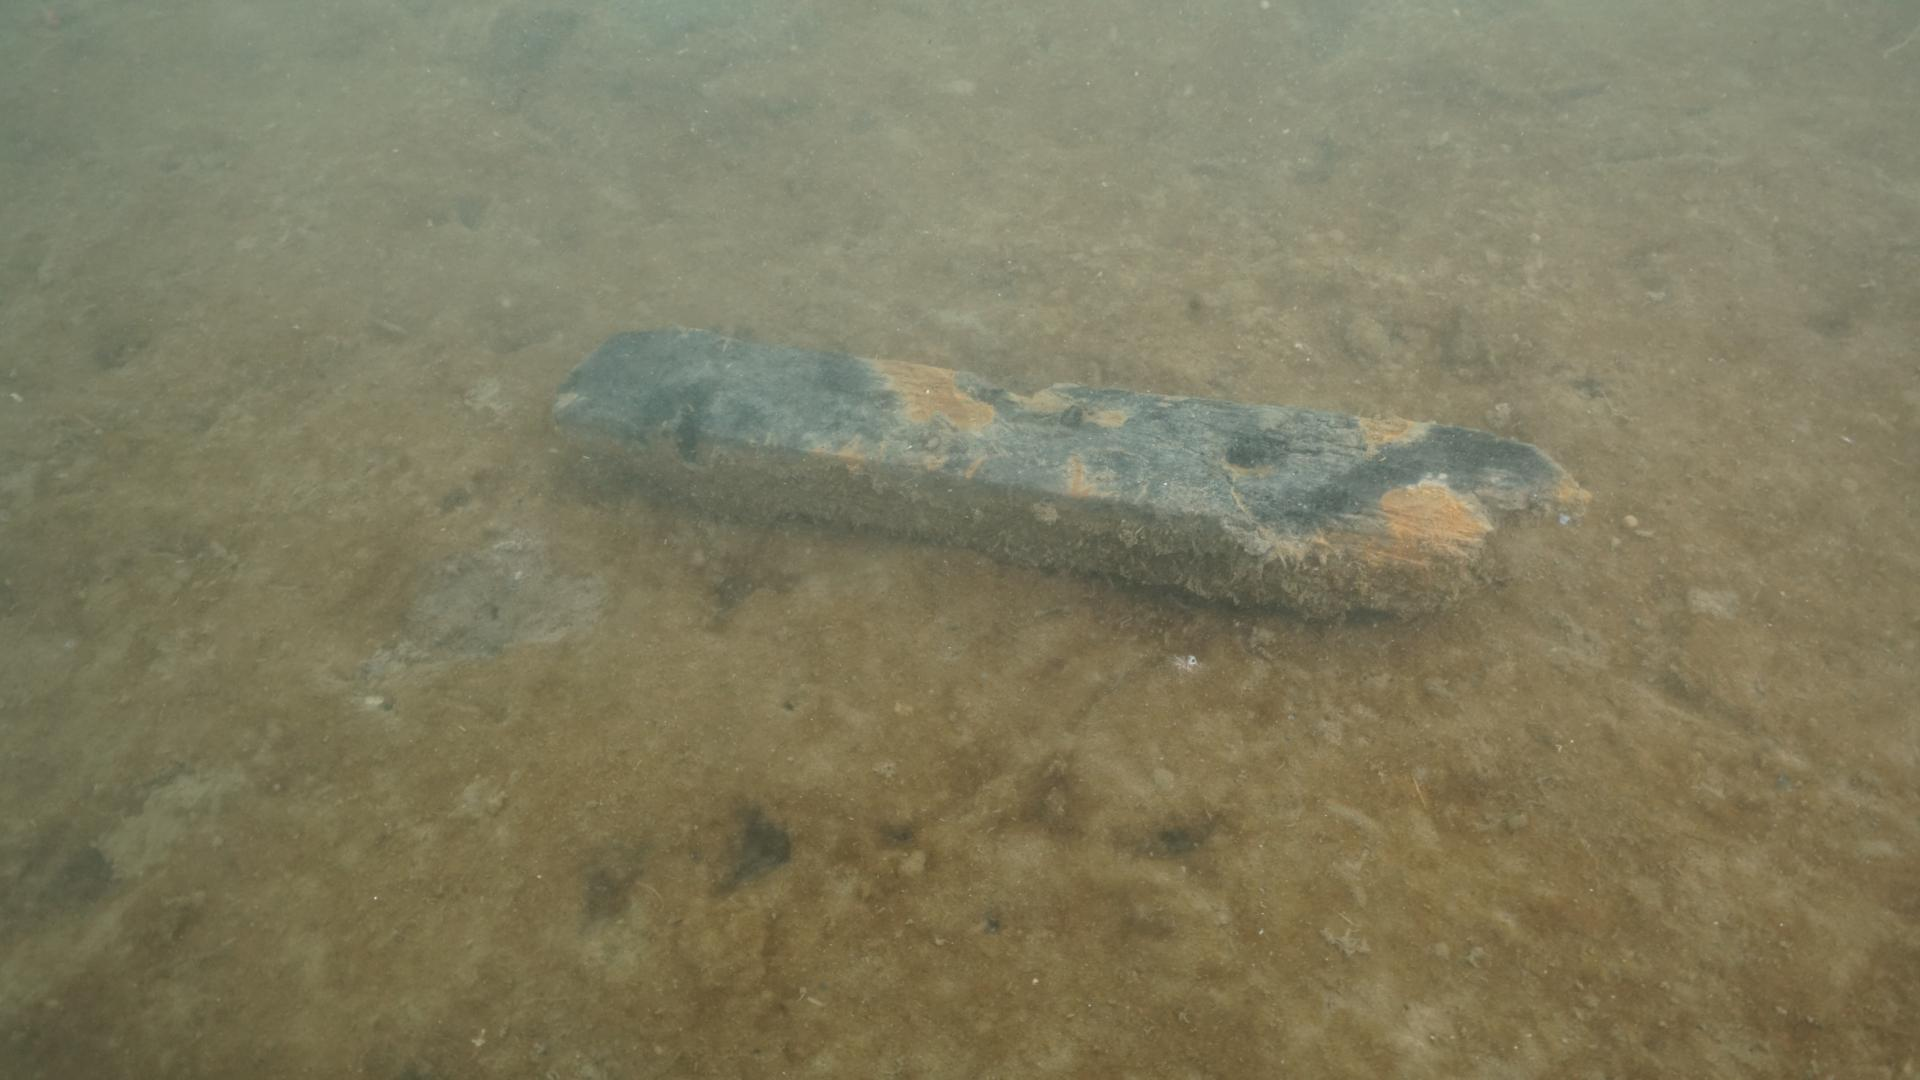wood: (543, 318, 1593, 630)
